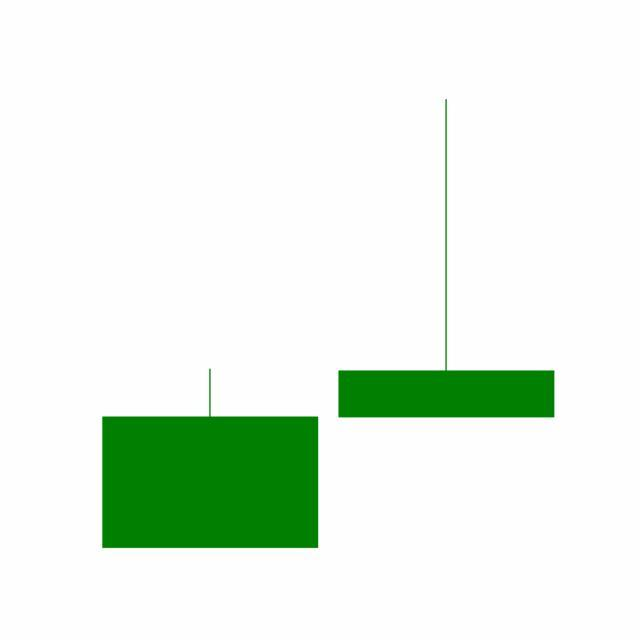Gravestone Doji: (328, 97, 566, 422)
